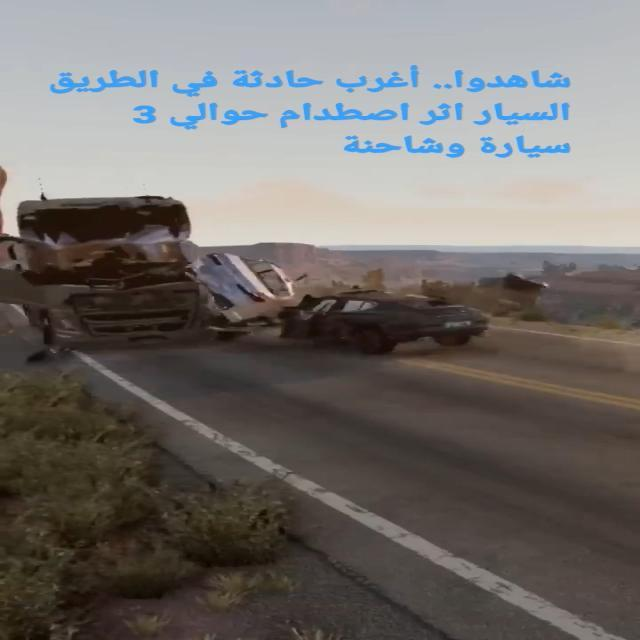accident: (0, 175, 485, 356)
